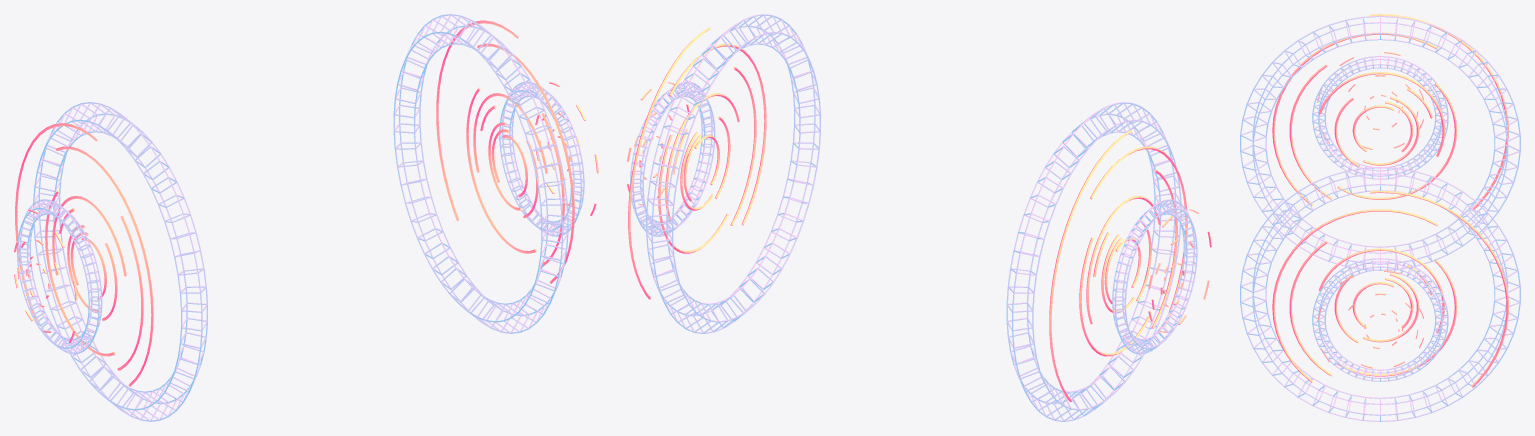
The model's file is interface_geo_1.glb.
3 views of the same model, side by side, from view 1: azimuth 30°, elevation 25°; view 2: azimuth 150°, elevation 25°; view 3: azimuth 270°, elevation 25° (orthographic). The views are drawn at different scales.
Parts seen in each view (by area): view 1: circle_constant1_0, circle1_constant2_0, circle2_constant2_0; view 2: circle_constant1_0, circle1_constant2_0, circle2_constant2_0; view 3: circle_constant1_0, circle1_constant2_0, circle2_constant2_0.
Part boxes in pixels (left/top/right/bottom): circle_constant1_0: left=17, top=14, right=584, bottom=421; circle1_constant2_0: left=15, top=20, right=574, bottom=386; circle2_constant2_0: left=14, top=82, right=598, bottom=343; circle_constant1_0: left=630, top=14, right=1197, bottom=421; circle1_constant2_0: left=628, top=27, right=1187, bottom=402; circle2_constant2_0: left=627, top=82, right=1211, bottom=332; circle_constant1_0: left=1240, top=15, right=1520, bottom=421; circle1_constant2_0: left=1272, top=14, right=1508, bottom=387; circle2_constant2_0: left=1317, top=51, right=1424, bottom=368.
Size of the model in its own units: 4.08 by 2.21 by 2.21.
